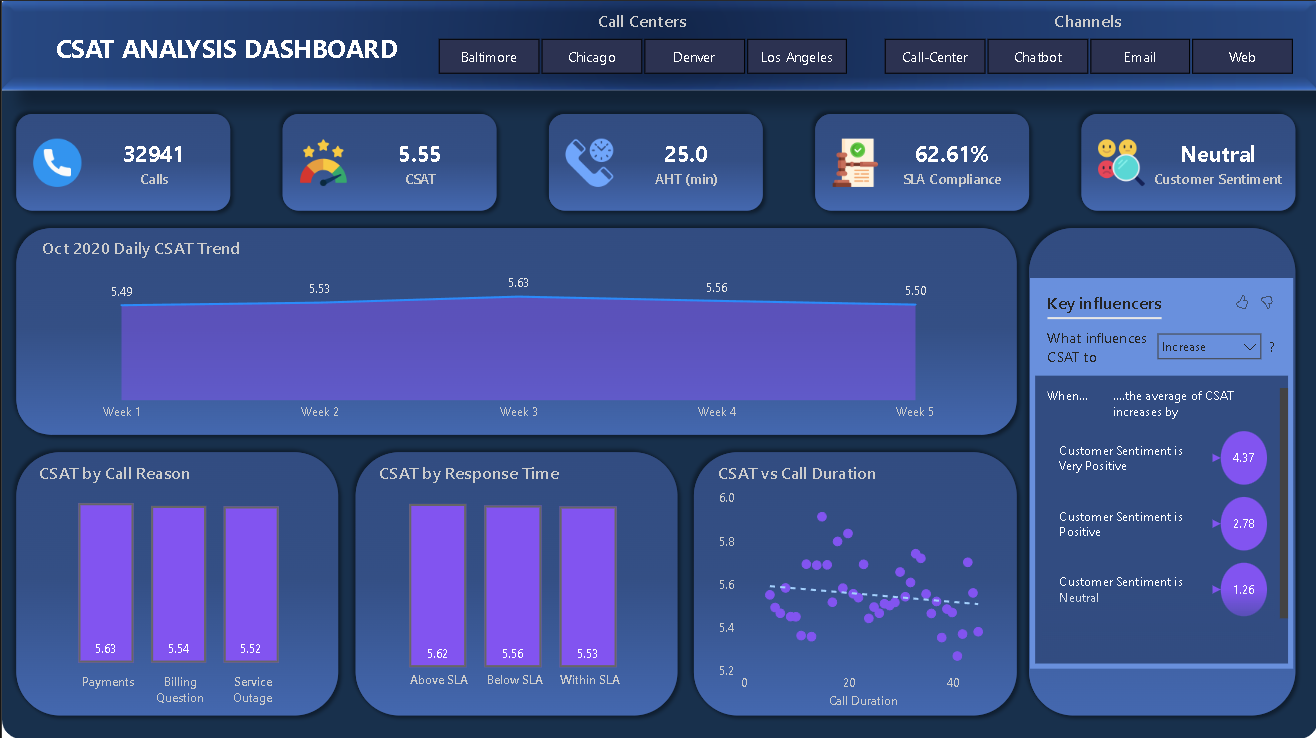

What the dashboard file says about the page in this screenshot:
{"tool":"powerbi","page":{"name":"CSAT","canvas":[1280,720],"ordinal":0},"visuals":[{"type":"clusteredColumnChart","title":"CSAT by Call Reason","fields":{"Category":["Call_Reason_Map.call_reason"],"Y":["Avg(Cleaned_Call_Data.csat_score)"]},"box":[31.1,448.3,274.3,244.1],"z":0},{"type":"lineChart","title":"Oct 2020 Daily CSAT Trend","fields":{"Y":["Avg(Cleaned_Call_Data.csat_score)"],"Category":["Dates.week_num"]},"box":[34,229.5,936.7,186.7],"z":1000},{"type":"scatterChart","title":"CSAT vs Call Duration","fields":{"Y":["Avg(Cleaned_Call_Data.csat_score)"],"X":["Cleaned_Call_Data.call_duration_in_min"]},"box":[691.6,448.4,274,244],"z":2000},{"type":"columnChart","title":"CSAT by Response Time","fields":{"Category":["Cleaned_Call_Data.response_time"],"Y":["Avg(Cleaned_Call_Data.csat_score)"]},"box":[361.8,448.4,273.3,228.6],"z":3000},{"type":"slicer","title":"Call Centers","fields":{"Values":["Cleaned_Call_Data.call_center_city"]},"box":[398.3,8.7,447.4,69.1],"z":4000},{"type":"slicer","title":"Channels","fields":{"Values":["Channel_Map.channel"]},"box":[832.6,8.8,447,69],"z":5000},{"type":"keyDriversVisual","fields":{"Target":["Cleaned_Call_Data.csat_score"],"ExplainBy":["Sentiment_Map.sentiment_type"]},"box":[999.9,269.4,255.8,380.3],"z":6000},{"type":"textbox","box":[26,24,385,53],"z":7000},{"type":"cardVisual","fields":{"Data":["Cleaned_Call_Data.Total_Calls"]},"box":[24.3,111.9,200,90.5],"z":8000},{"type":"cardVisual","fields":{"Data":["Cleaned_Call_Data.AHT_in_Mins"]},"box":[541.8,112.1,200,90],"z":9000},{"type":"cardVisual","fields":{"Data":["Cleaned_Call_Data.SLA_Compliance"]},"box":[800.5,112.1,200,90],"z":10000},{"type":"cardVisual","fields":{"Data":["Cleaned_Call_Data.Avg_Sentiment"]},"box":[1059.2,111.9,200,90.5],"z":11000},{"type":"cardVisual","fields":{"Data":["Cleaned_Call_Data.Avg_CSAT"]},"box":[283.1,112.1,200,90],"z":12000}]}

Visuals, with their boxes in screenshot pixels (x1, y1, x2, y2), scaled from the page's 1280x720 canvas onto the 1316x738 screenshot:
"CSAT by Call Reason" clusteredColumnChart: box=[32, 460, 314, 710]
"Oct 2020 Daily CSAT Trend" lineChart: box=[35, 235, 998, 427]
"CSAT vs Call Duration" scatterChart: box=[711, 460, 993, 710]
"CSAT by Response Time" columnChart: box=[372, 460, 653, 694]
"Call Centers" slicer: box=[410, 9, 869, 80]
"Channels" slicer: box=[856, 9, 1315, 80]
keyDriversVisual - Cleaned_Call_Data.csat_score x Sentiment_Map.sentiment_type: box=[1028, 276, 1291, 666]
textbox: box=[27, 25, 423, 79]
cardVisual - Cleaned_Call_Data.Total_Calls: box=[25, 115, 231, 207]
cardVisual - Cleaned_Call_Data.AHT_in_Mins: box=[557, 115, 763, 207]
cardVisual - Cleaned_Call_Data.SLA_Compliance: box=[823, 115, 1029, 207]
cardVisual - Cleaned_Call_Data.Avg_Sentiment: box=[1089, 115, 1295, 207]
cardVisual - Cleaned_Call_Data.Avg_CSAT: box=[291, 115, 497, 207]
